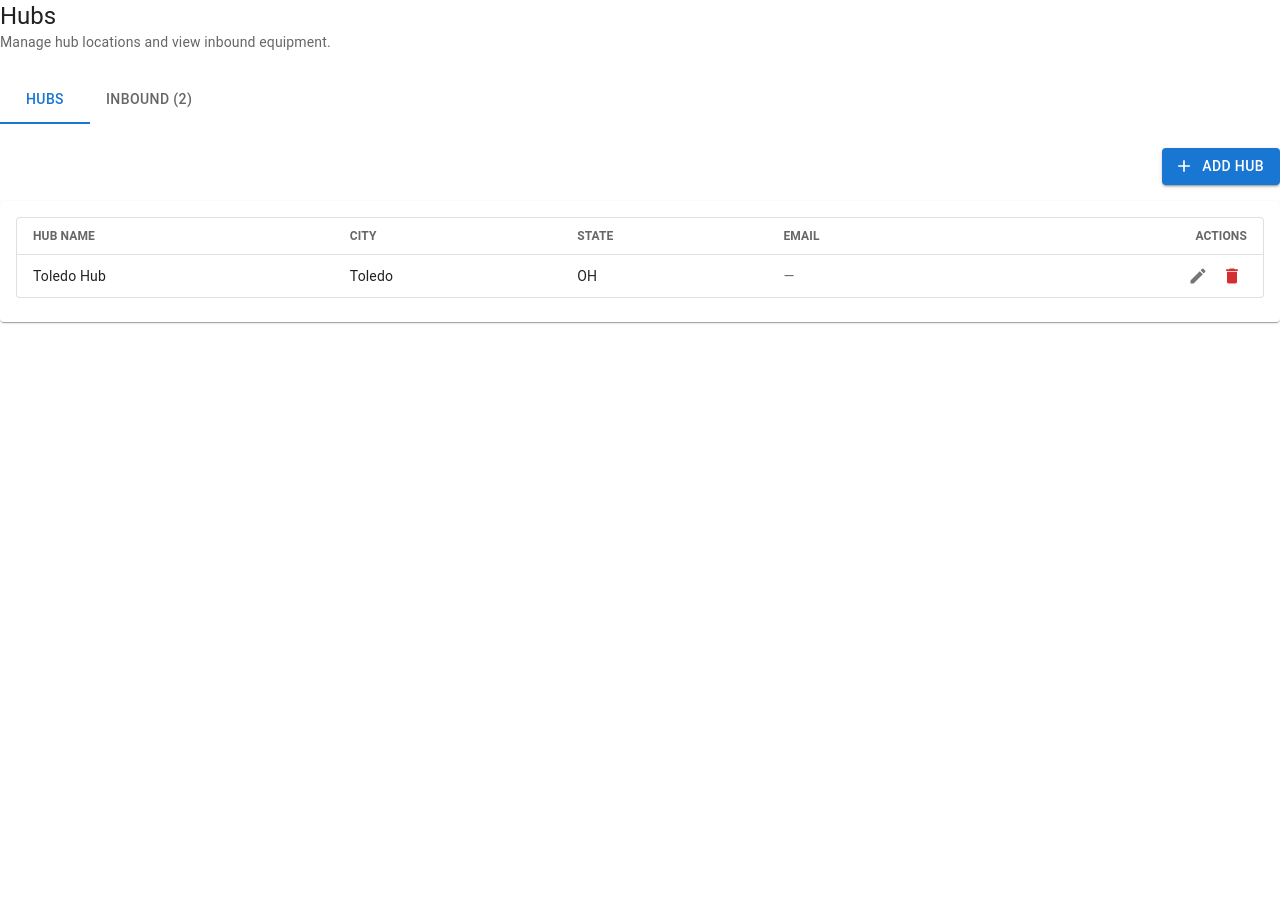
hubs — red failures, honest bulk Receive, Deactivate says Deactivate › the deactivate confirm button says "Deactivate"
The image size is (1280, 900).
Click the button named "Deactivate". click: (1232,276)
box: [1217,260,1247,290]
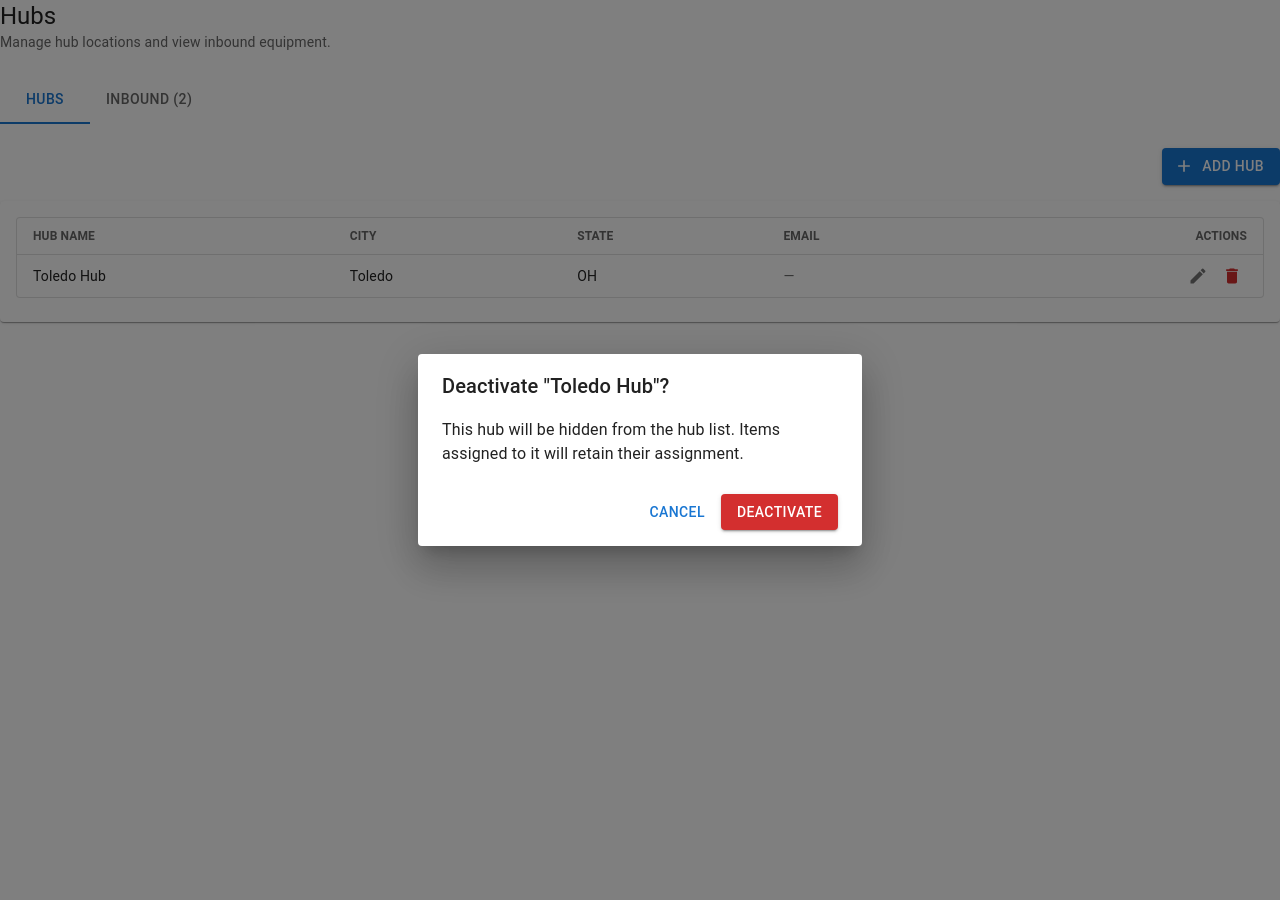
Expected: the button "Deactivate" is shown, [721,494,838,530]
